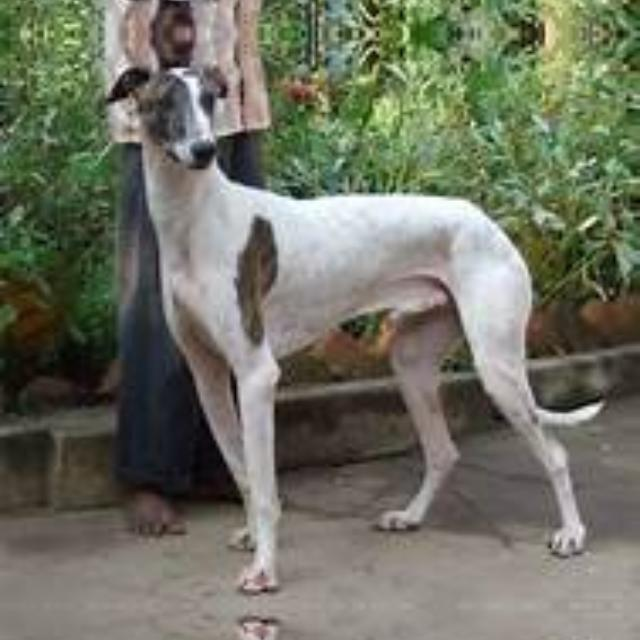dog: (127, 68, 599, 568)
